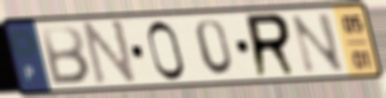0: (145, 18, 188, 82), (193, 18, 235, 78)
B: (38, 24, 93, 87)
N: (81, 18, 139, 87), (288, 10, 347, 75)
R: (243, 10, 300, 80)
